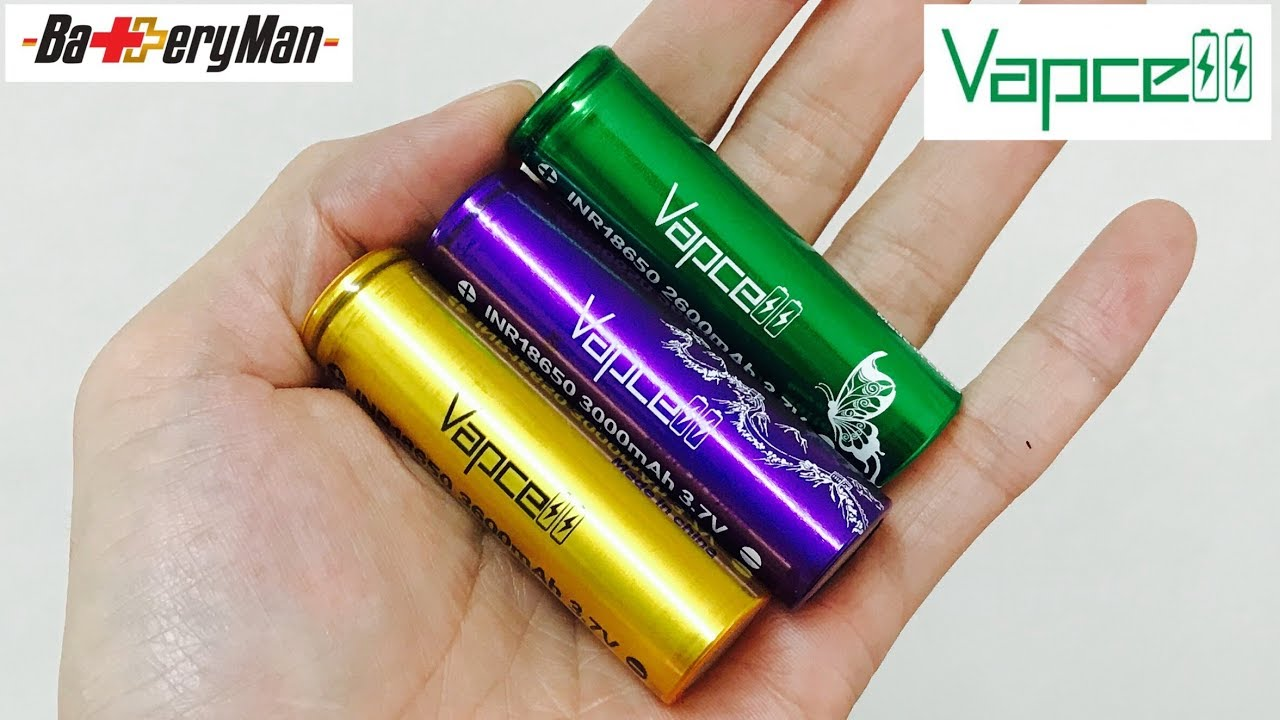Battery: (292, 233, 774, 713), (416, 163, 898, 622), (500, 39, 972, 505)
